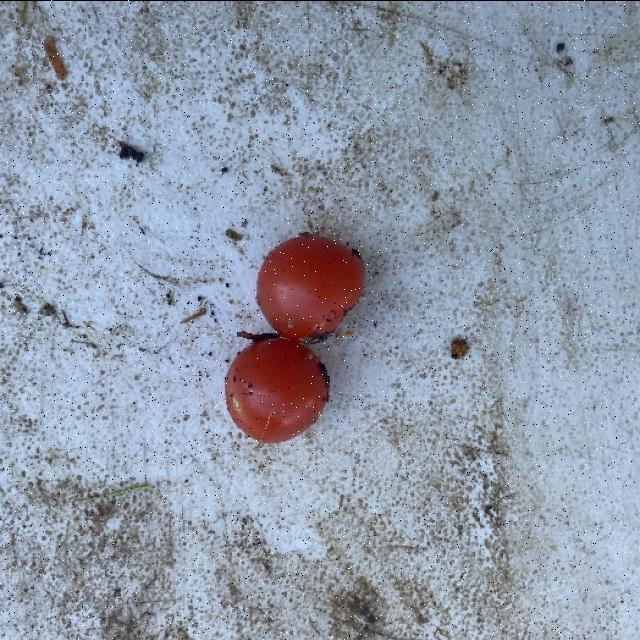organik: (227, 227, 368, 440)
